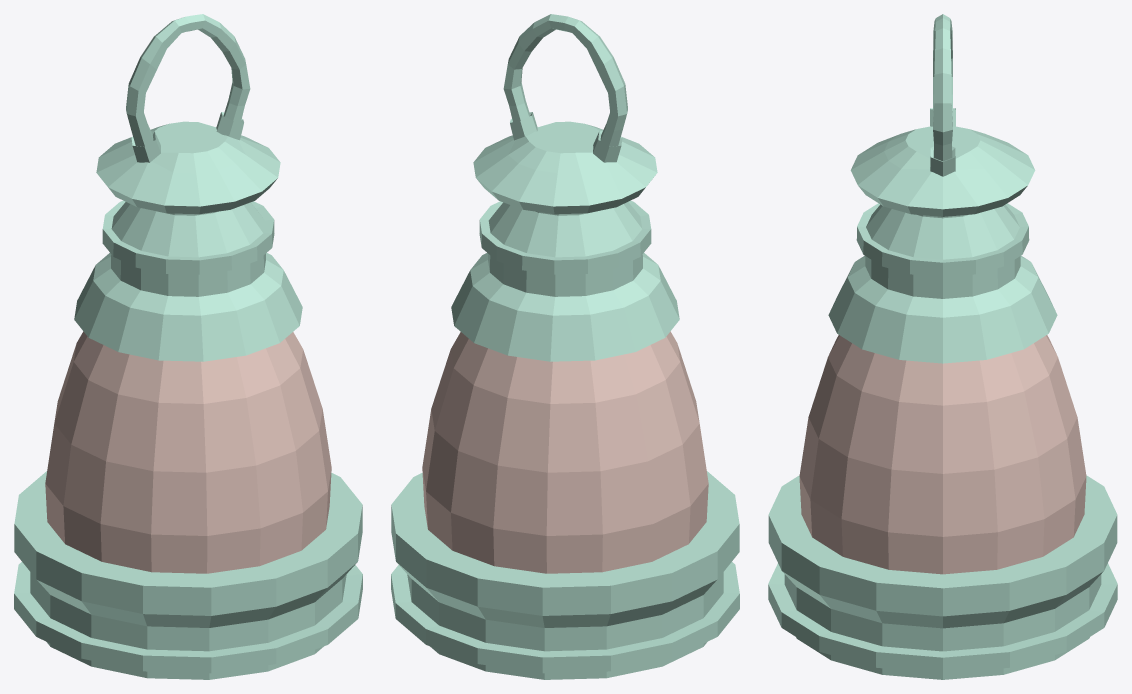
Rendered from luz do farol.fbx.
3 views of the same model, side by side, from view 1: azimuth 30°, elevation 25°; view 2: azimuth 150°, elevation 25°; view 3: azimuth 270°, elevation 25° (orthographic).
Visible parts, largest first — view 1: lamparina; view 2: lamparina; view 3: lamparina.
Part boxes in pixels (<box>): lamparina: <box>14,14,362,679</box>; lamparina: <box>391,14,739,679</box>; lamparina: <box>768,14,1117,679</box>.
Size of the model in its own units: 221 by 413 by 221.
